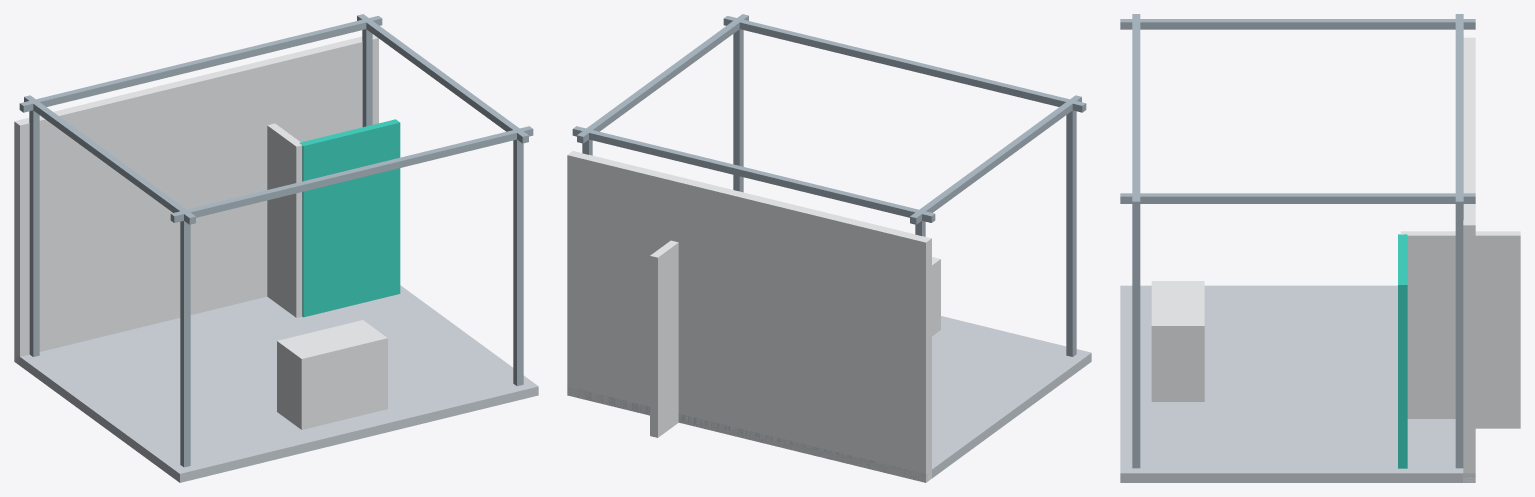
3 renders of one model, left to right at view 1: azimuth 30°, elevation 25°; view 2: azimuth 150°, elevation 25°; view 3: azimuth 270°, elevation 25°, orthographic. The views are drawn at different scales.
Visible parts, largest first — view 1: Exhibition Booth Concept; view 2: Exhibition Booth Concept; view 3: Exhibition Booth Concept.
Part boxes in pixels (x1=…): Exhibition Booth Concept: x1=14, y1=14, x2=538, y2=482; Exhibition Booth Concept: x1=567, y1=14, x2=1091, y2=482; Exhibition Booth Concept: x1=1120, y1=14, x2=1520, y2=482.
Bounding box in the file's own units: 5 × 3.49 × 4.51.
